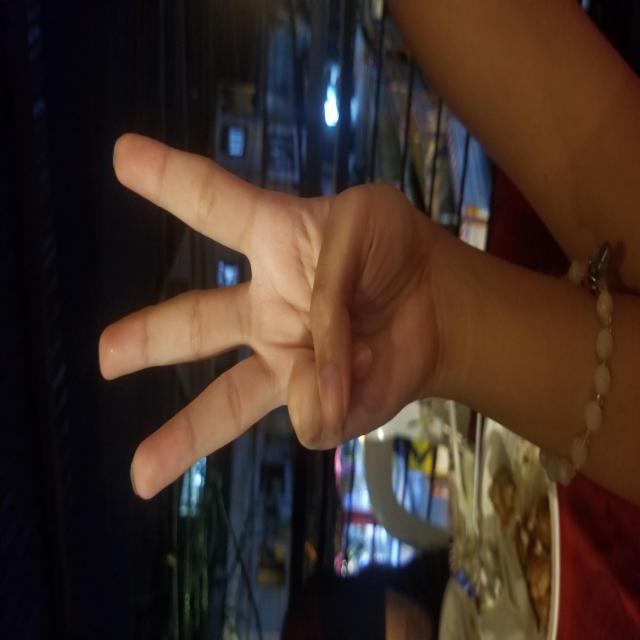W: (137, 97, 508, 426)
